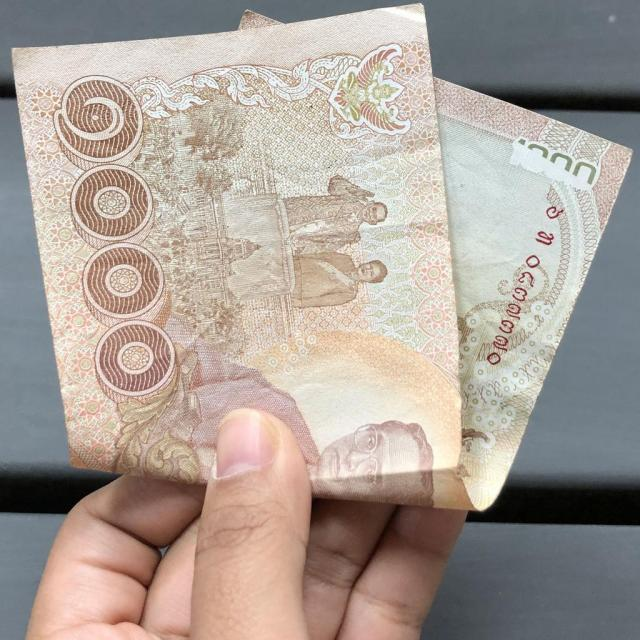THAI1000: (12, 4, 628, 511)
